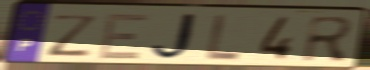4: (257, 15, 296, 63)
E: (96, 13, 151, 62)
J: (149, 12, 204, 63)
L: (203, 13, 243, 63)
R: (300, 14, 358, 64)
Z: (46, 13, 101, 58)
